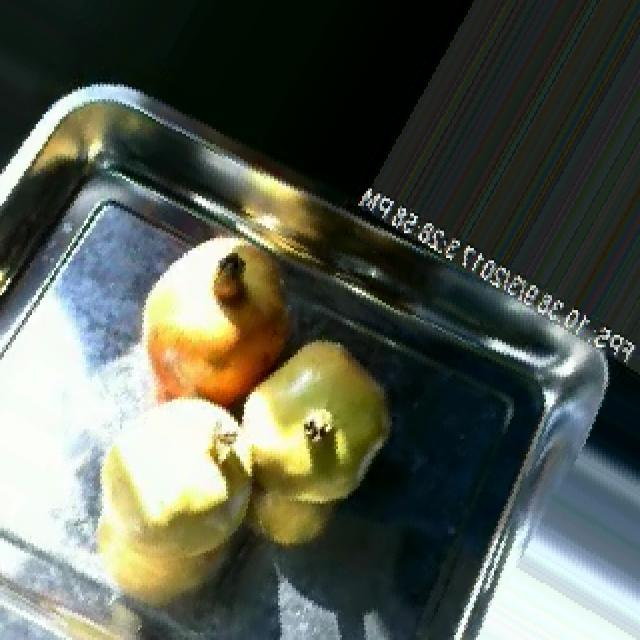fruit: (66, 372, 290, 638), (110, 218, 324, 437), (222, 310, 410, 528)
